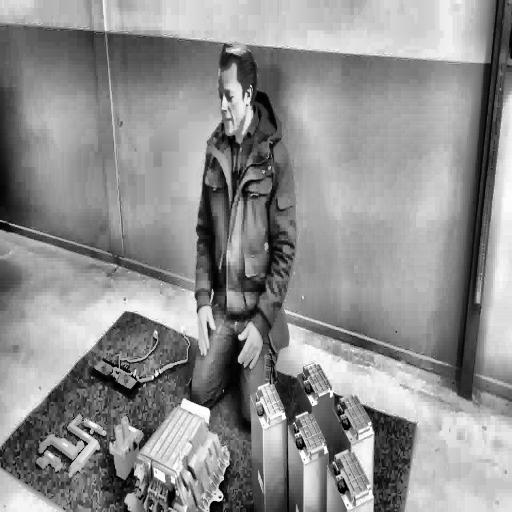battery_module: (251, 383, 288, 512), (287, 412, 329, 512), (327, 449, 375, 512), (332, 390, 376, 450), (299, 359, 336, 408)
bms_unit: (123, 396, 232, 512)
busbar: (33, 407, 110, 489)
connector: (109, 416, 145, 479)
low_volt_cable: (111, 323, 194, 388)
